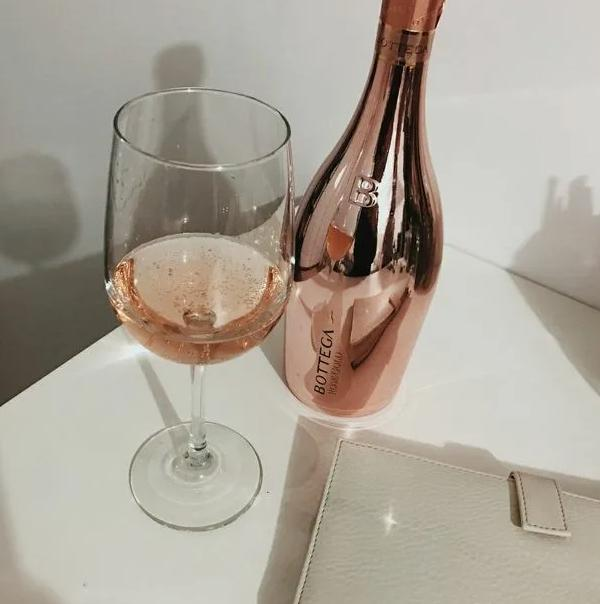wine bottle: (281, 0, 445, 419)
wine label: (307, 302, 358, 405)
